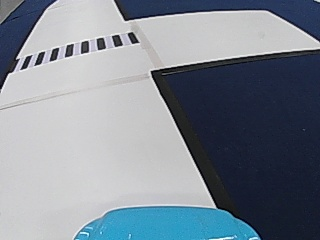CrossWalk: (20, 32, 137, 67)
